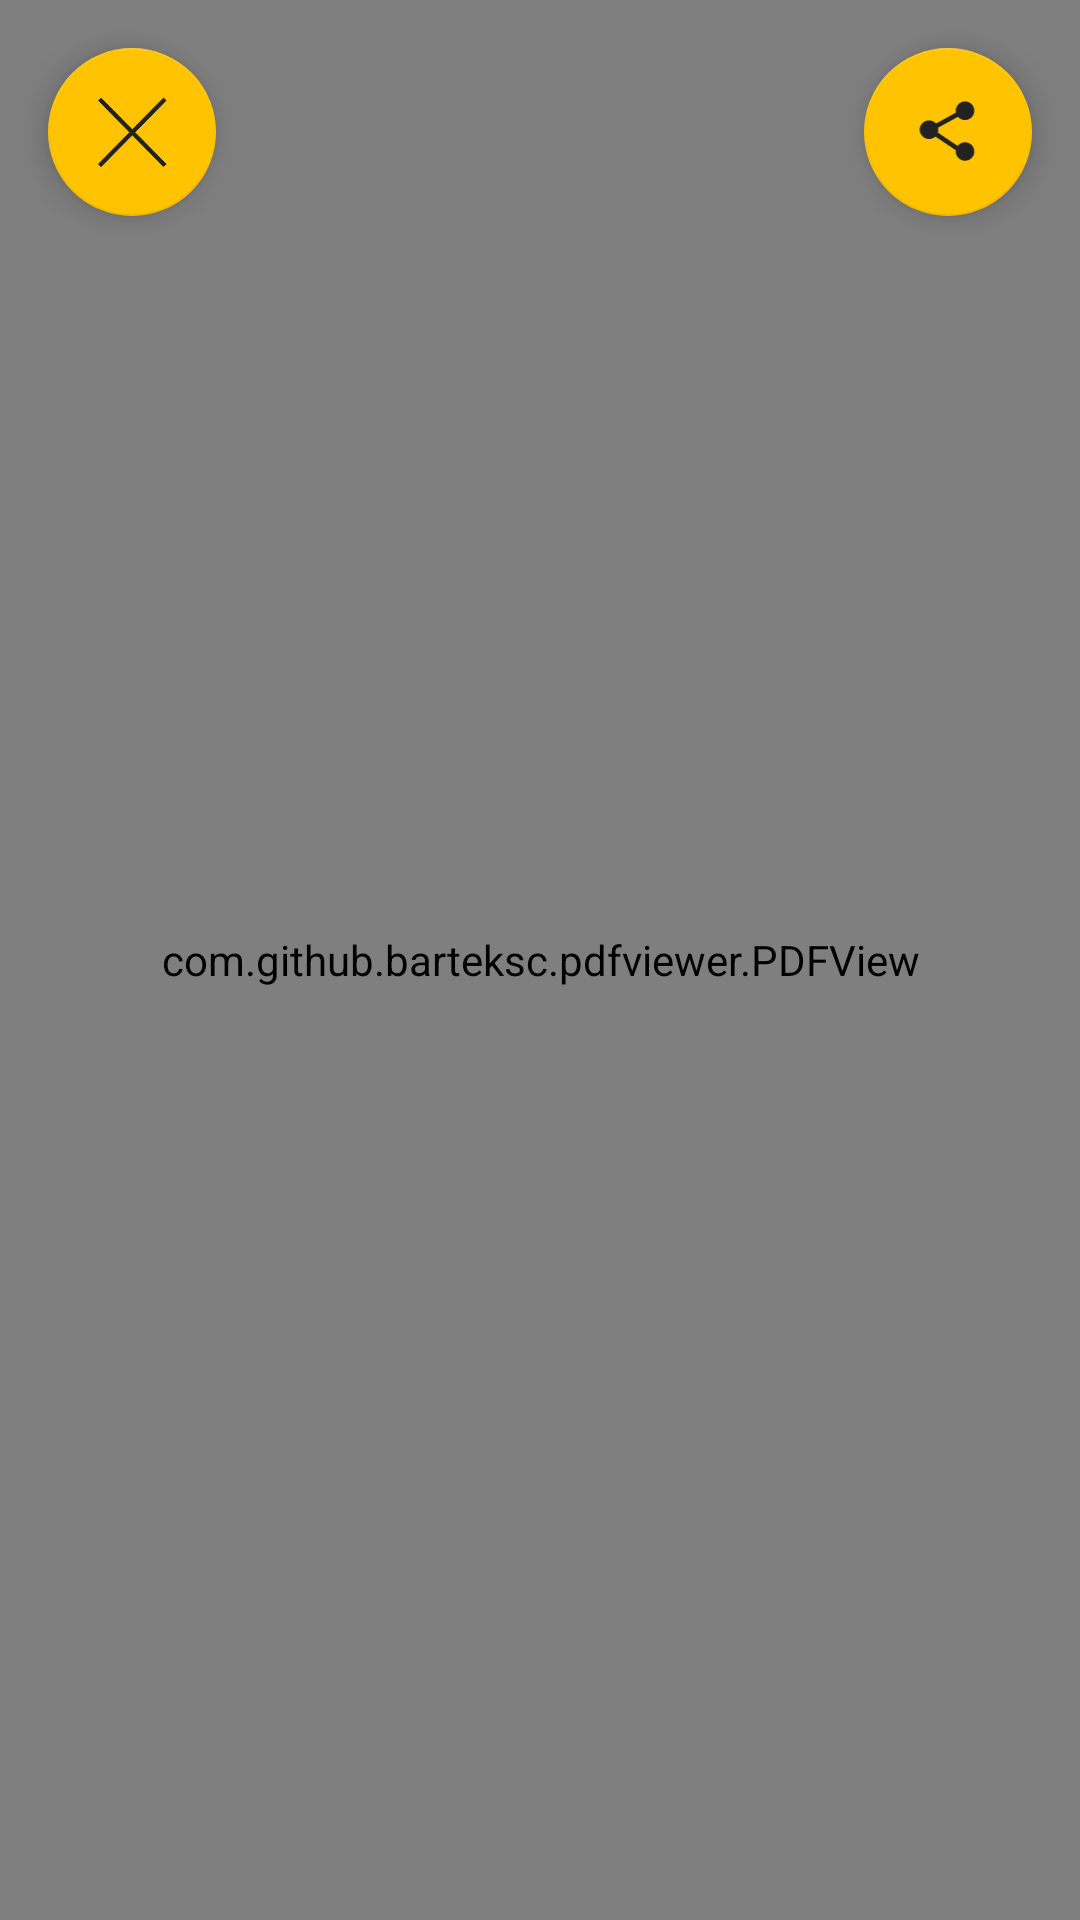

Screen size 1080 × 1920. Icon name, then its center in pixels as (x,y):
shareicon: (948,132)
